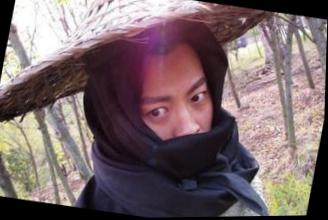WRONG: (120, 61, 229, 172)
